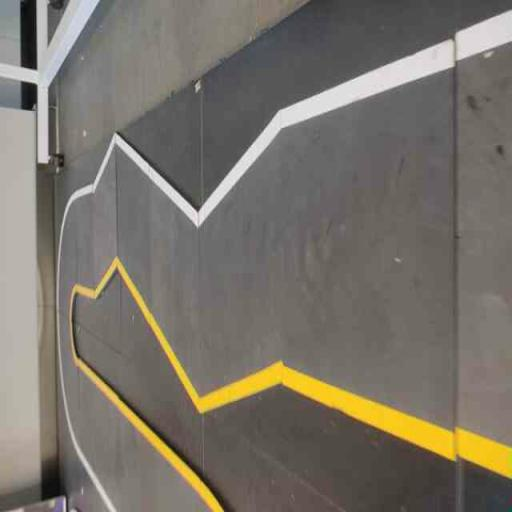straight: (273, 38, 457, 462)
